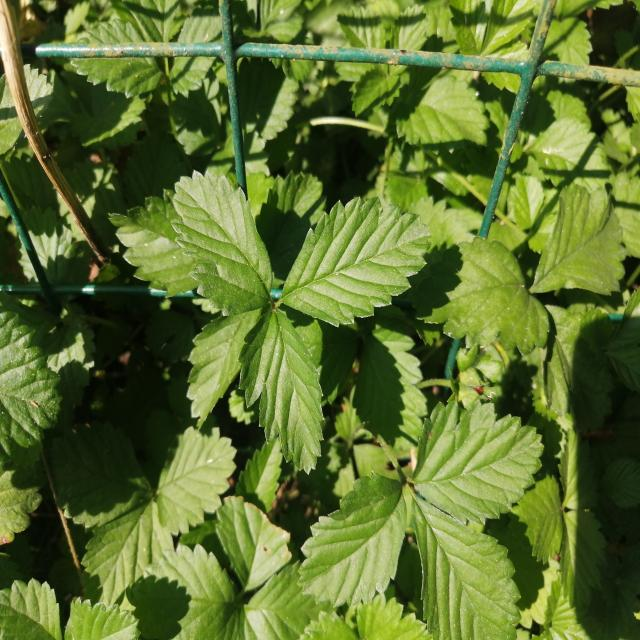Mock_strawberry: (146, 180, 432, 444), (298, 410, 540, 639)
